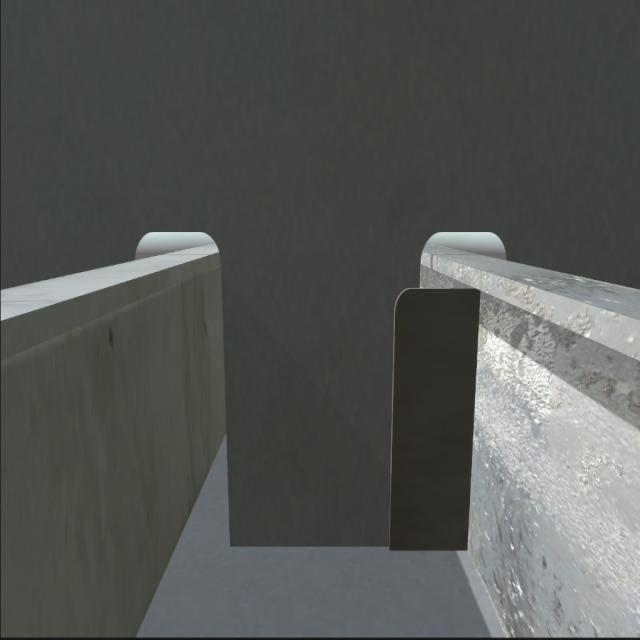fillet_yong_jeop_jang: (220, 537, 480, 555)
longi_yong_jeop_jang: (465, 287, 479, 559)
plate_CP05: (387, 284, 473, 554)
